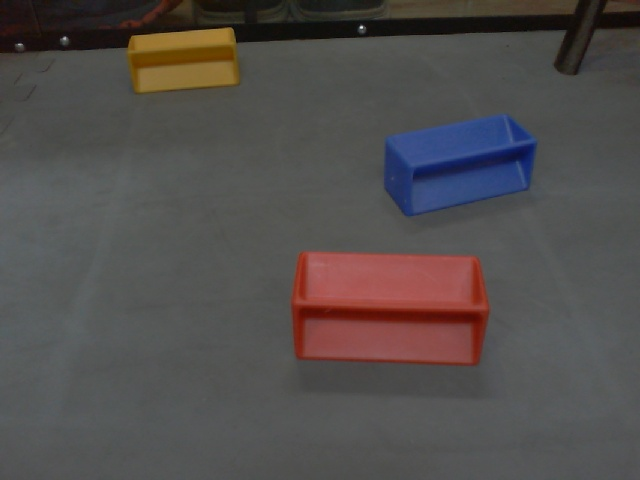BlueSample: (379, 113, 538, 219)
RedSample: (287, 249, 491, 371)
YellowSample: (125, 24, 245, 97)
